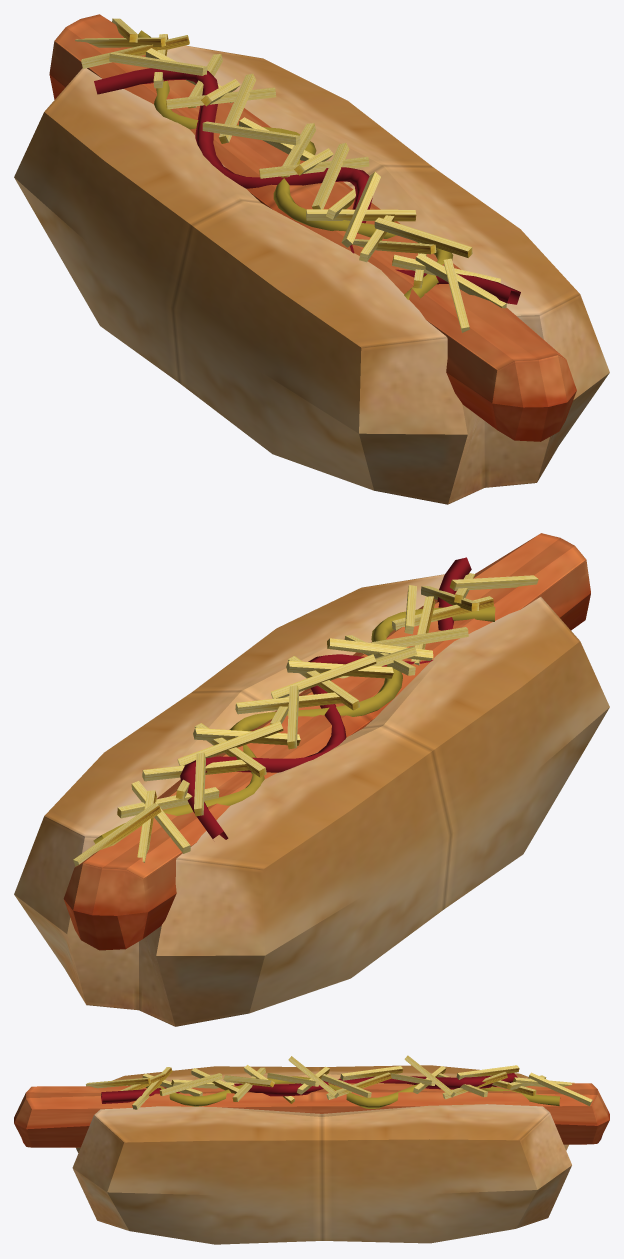
File: panchaso.glb
The picture shows the model from 3 angles, top to bottom: view 1: azimuth 30°, elevation 25°; view 2: azimuth 150°, elevation 25°; view 3: azimuth 270°, elevation 25°; orthographic projection. The views are drawn at different scales.
Parts seen in each view (by area): view 1: Cube.001, Cube, Cube.002, Cube.003, BezierCurve, BezierCurve.001; view 2: Cube.001, Cube, Cube.002, Cube.003, BezierCurve, BezierCurve.001; view 3: Cube, Cube.002, Cube.003, Cube.001, BezierCurve, BezierCurve.001.
Boxes of the visible parts, box(x1,y1,x2,y2) form: Cube.001: box(14, 68, 484, 504); Cube: box(166, 45, 609, 487); Cube.002: box(49, 14, 576, 441); Cube.003: box(75, 18, 506, 332); BezierCurve: box(94, 68, 520, 304); BezierCurve.001: box(138, 30, 453, 299); Cube.001: box(139, 597, 609, 1026); Cube: box(14, 574, 444, 1010); Cube.002: box(63, 533, 590, 950); Cube.003: box(73, 573, 538, 866); BezierCurve: box(180, 557, 471, 839); BezierCurve.001: box(93, 606, 495, 843); Cube: box(72, 1104, 571, 1244); Cube.002: box(14, 1083, 609, 1147); Cube.003: box(86, 1055, 592, 1109); Cube.001: box(76, 1065, 568, 1152); BezierCurve: box(101, 1073, 517, 1103); BezierCurve.001: box(146, 1076, 560, 1108).
Size of the model in its own units: 2.34 by 1.93 by 6.96.
Materials: 5 (3 with a texture image).
